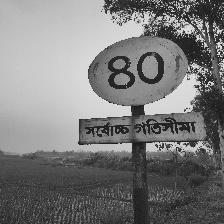Speed-limit: (78, 37, 205, 144)
